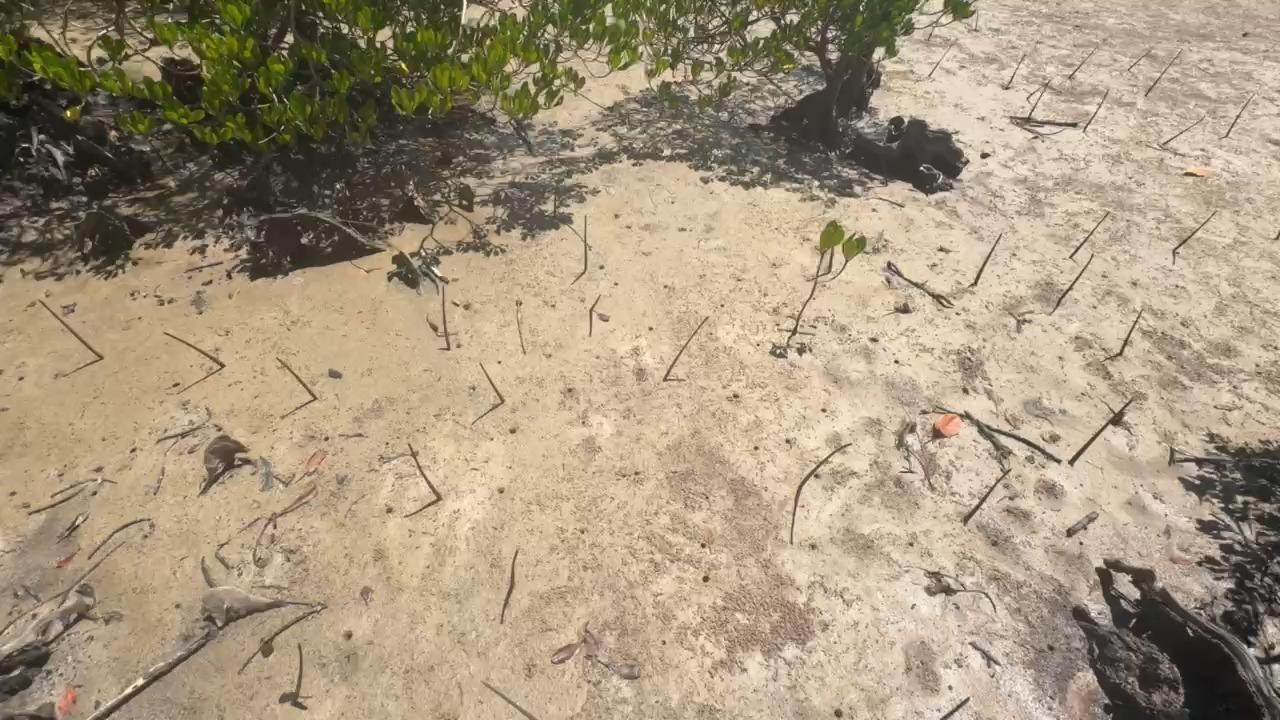Tree: (1068, 399, 1133, 466), (36, 296, 104, 359), (662, 316, 710, 382), (962, 468, 1013, 524), (796, 442, 853, 490), (88, 518, 152, 560), (162, 330, 227, 369), (479, 680, 538, 720), (407, 442, 442, 501), (274, 356, 319, 401), (1068, 211, 1110, 259), (1172, 211, 1216, 253), (1058, 253, 1094, 302), (1144, 51, 1181, 97), (974, 232, 1003, 286), (1161, 117, 1207, 147), (1118, 308, 1144, 356), (1224, 95, 1253, 138), (1082, 89, 1109, 133), (479, 362, 506, 403), (1067, 49, 1101, 80), (1005, 54, 1029, 90), (441, 283, 453, 351), (927, 48, 949, 78), (293, 643, 304, 699), (1128, 49, 1152, 72), (1028, 89, 1045, 118), (510, 548, 520, 586), (1027, 81, 1042, 99), (589, 294, 601, 314), (584, 214, 588, 272)
